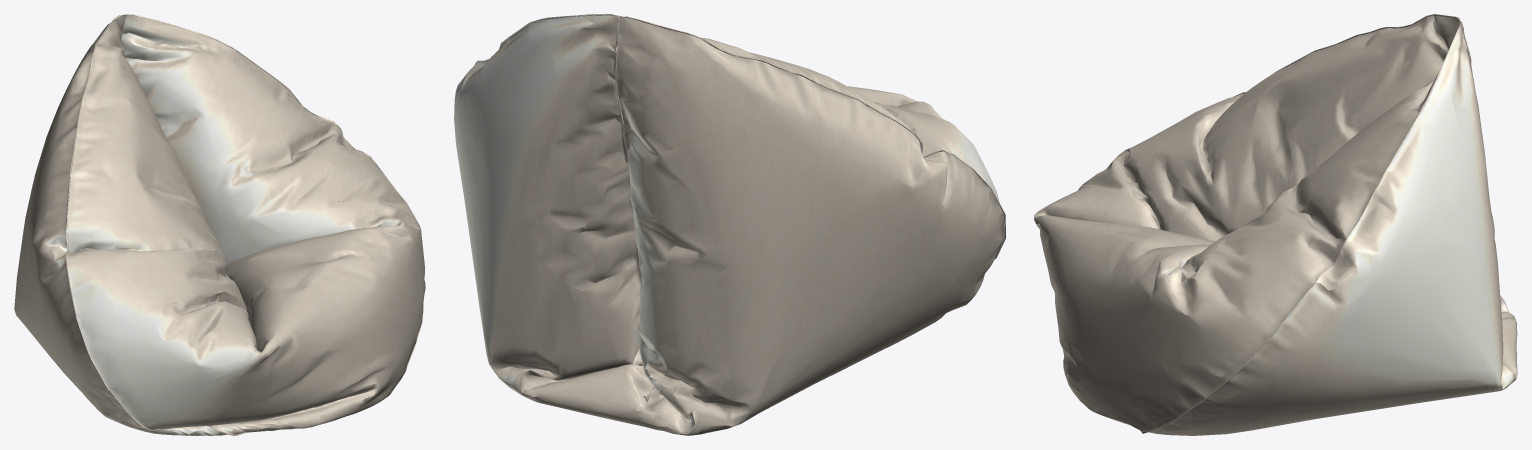
Rendered from raw_model.obj.
3 views of the same model, side by side, from view 1: azimuth 30°, elevation 25°; view 2: azimuth 150°, elevation 25°; view 3: azimuth 270°, elevation 25° (orthographic). The views are drawn at different scales.
Visible parts, largest first — view 1: solid_001; view 2: solid_001; view 3: solid_001.
Part boxes in pixels (left/top/right/bottom): solid_001: left=14, top=14, right=425, bottom=435; solid_001: left=454, top=14, right=1005, bottom=435; solid_001: left=1034, top=14, right=1517, bottom=435.
Size of the model in its own units: 1.09 by 0.8304 by 1.09.
Materials: 1 (1 with a texture image).
